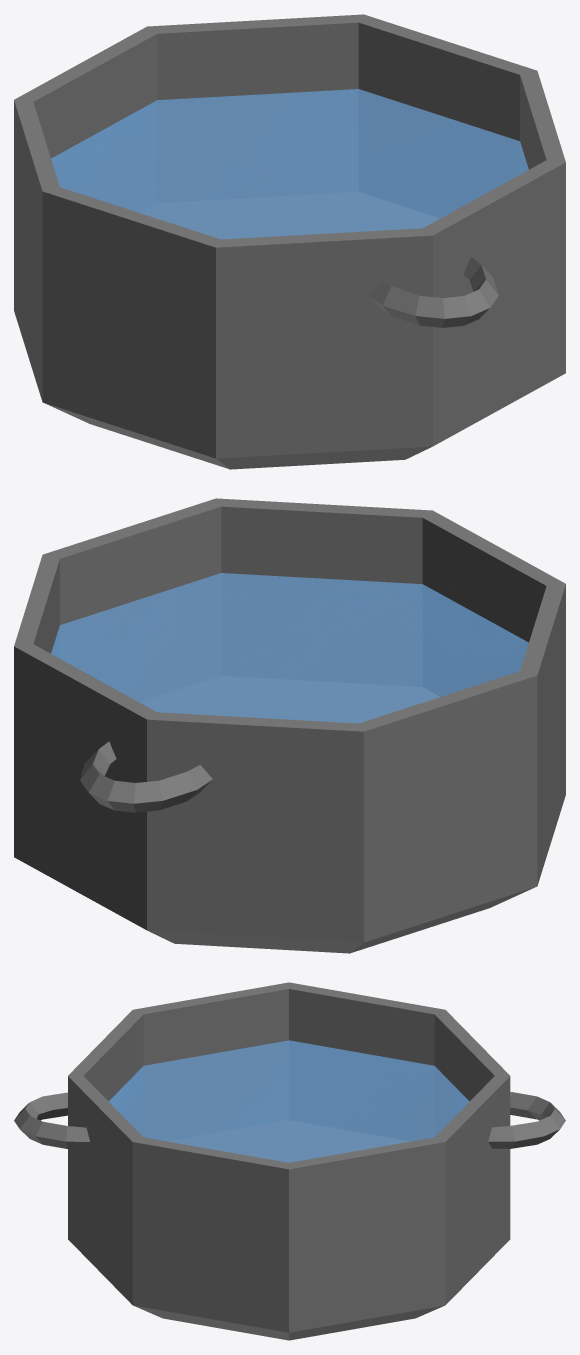
The model's file is ENVI_LV2-3_Panci_isi_Air.fbx.
3 renders of one model, top to bottom at view 1: azimuth 30°, elevation 25°; view 2: azimuth 150°, elevation 25°; view 3: azimuth 270°, elevation 25°, orthographic. The views are drawn at different scales.
Visible parts, largest first — view 1: Panci isi Air; view 2: Panci isi Air; view 3: Panci isi Air.
Part boxes in pixels (x1,y1,x2,y2): Panci isi Air: [14, 14, 565, 469]; Panci isi Air: [14, 498, 565, 953]; Panci isi Air: [14, 982, 565, 1340].
Size of the model in its own units: 35.4 by 16.69 by 44.16.
